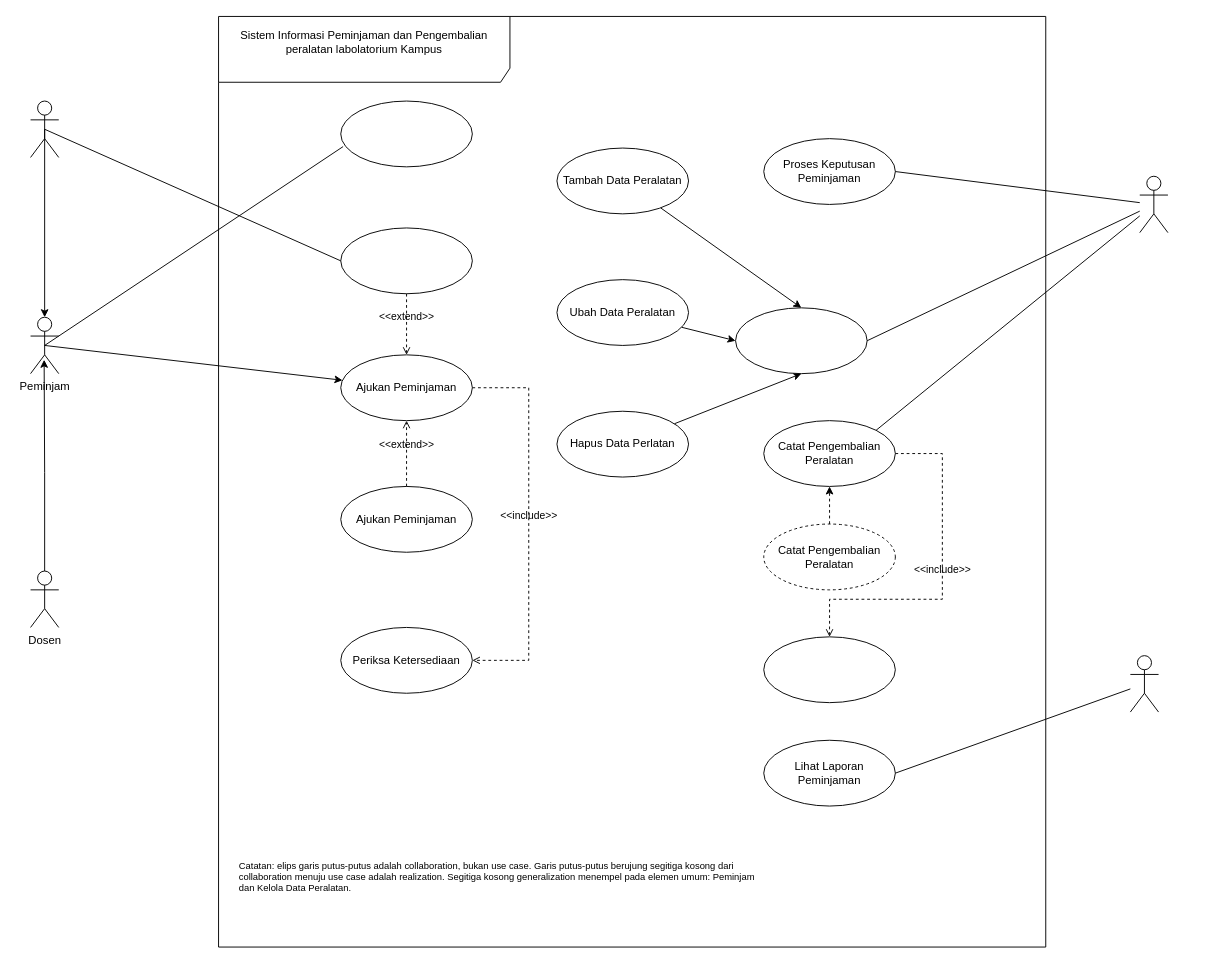
Some shapes in this 1225 by 964 pixel diagram are drawn without their labels. Each missing label, with the centre of its shape:
Cetak bukti pengajuan: the point at 406,260
Kelola Data Peralatan: the point at 801,340
Kepala Labolatorium: the point at 1144,683
Lihat Ketersediaan peralatan: the point at 406,133
Mahasiswa: the point at 44,128
Periksa Kondisi Peralatan: the point at 829,669
Petugas Labolatorium: the point at 1153,204
